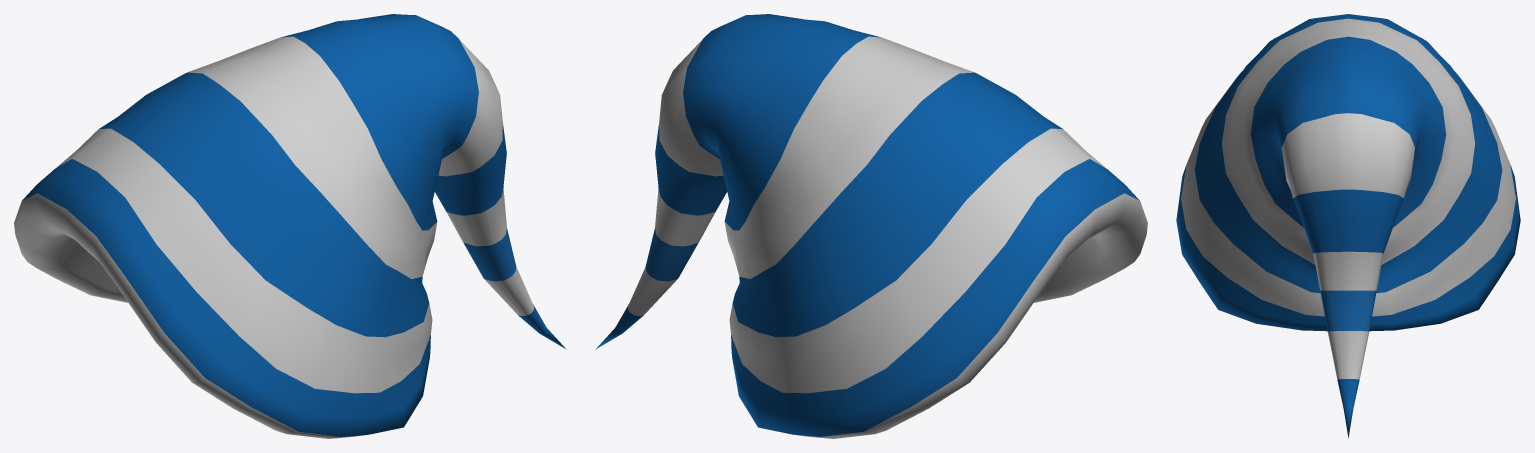
File: PajamaHat.fbx
3 renders of one model, left to right at view 1: azimuth 30°, elevation 25°; view 2: azimuth 150°, elevation 25°; view 3: azimuth 270°, elevation 25°, orthographic. The views are drawn at different scales.
Visible parts, largest first — view 1: PajamaHat; view 2: PajamaHat; view 3: PajamaHat.
Boxes of the visible parts, bbox=[...] form: PajamaHat: bbox=[14, 14, 566, 438]; PajamaHat: bbox=[595, 14, 1147, 438]; PajamaHat: bbox=[1176, 14, 1520, 438].
Bounding box in the file's own units: 61.89 × 44.24 × 45.57.
